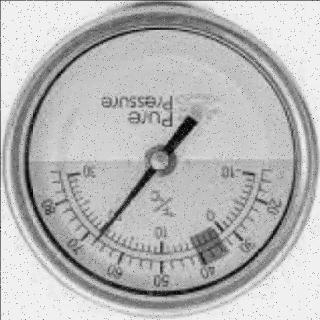gauge: (0, 0, 320, 320), (240, 152, 280, 182), (38, 160, 76, 190), (143, 144, 176, 176), (87, 232, 105, 248)
